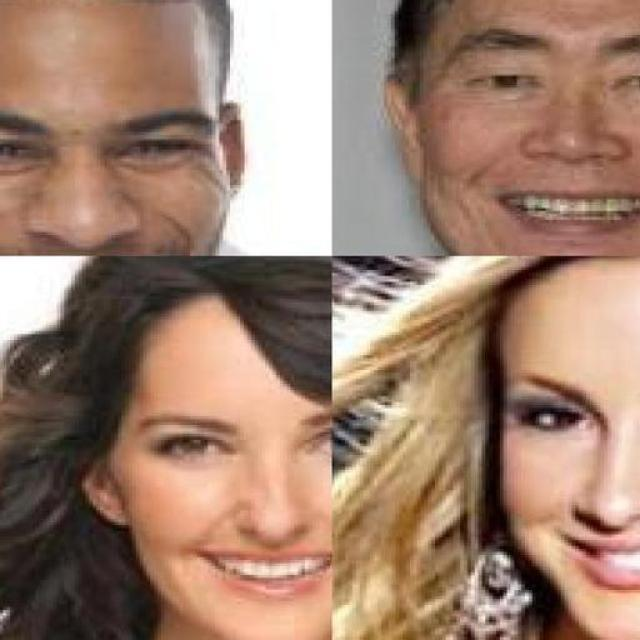bareface: (82, 267, 328, 618)
